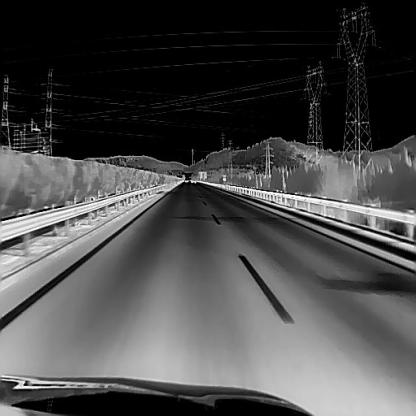truck: (191, 171, 196, 182)
